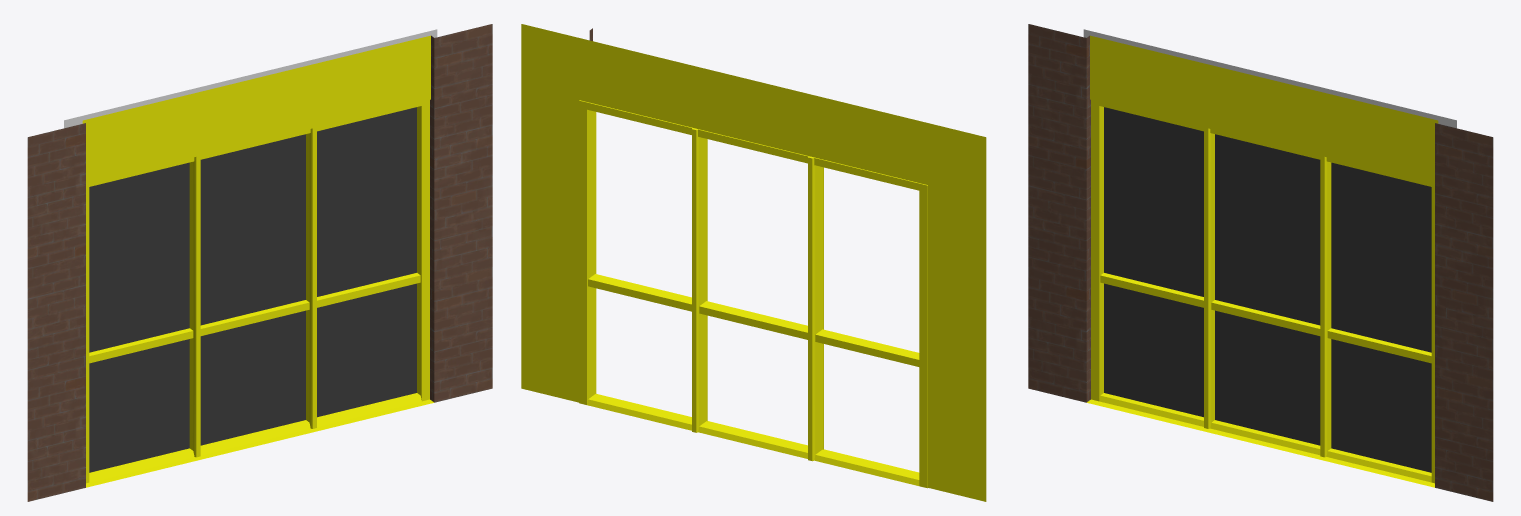
The model's file is metal-window.glb.
3 renders of one model, left to right at view 1: azimuth 30°, elevation 25°; view 2: azimuth 150°, elevation 25°; view 3: azimuth 330°, elevation 25°, orthographic.
Visible parts, largest first — view 1: Metal_Window; view 2: Metal_Window; view 3: Metal_Window.
Part boxes in pixels (<box>): Metal_Window: <box>27,24,492,501</box>; Metal_Window: <box>521,24,986,501</box>; Metal_Window: <box>1028,24,1493,501</box>.
Bounding box in the file's own units: 4 × 3 × 0.2239.
4 materials, 1 textured.
